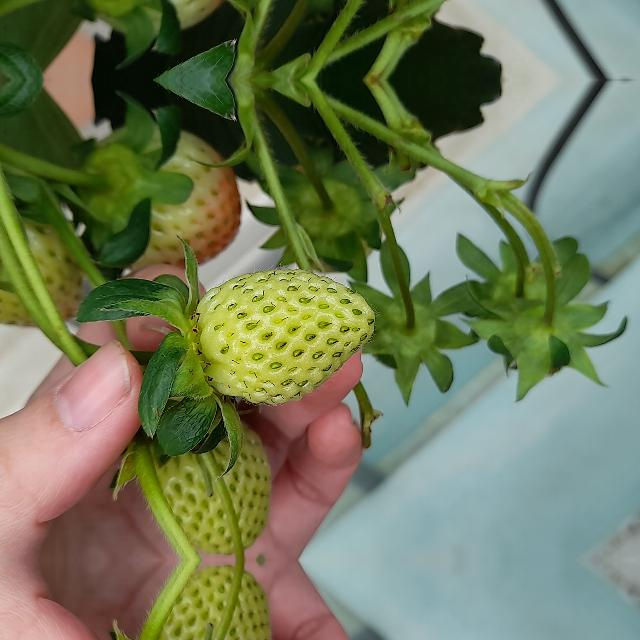Health_25: (193, 268, 374, 406), (143, 418, 275, 554), (143, 566, 275, 640)
